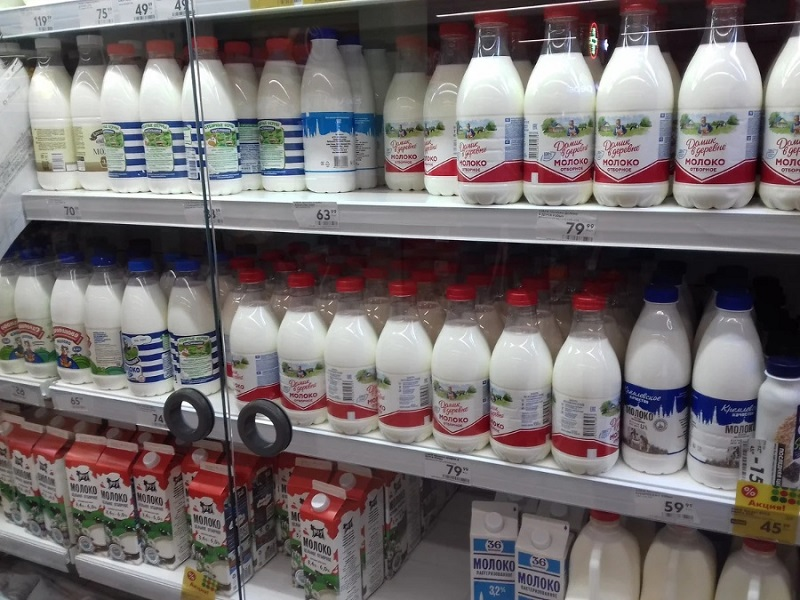milk: (589, 1, 683, 214), (680, 1, 766, 215), (688, 293, 769, 502), (452, 12, 533, 214), (622, 286, 698, 491), (525, 1, 598, 209), (553, 295, 630, 484), (428, 284, 502, 465), (488, 288, 561, 471), (290, 25, 362, 196), (322, 276, 391, 442), (178, 33, 248, 194), (378, 279, 444, 449), (370, 31, 437, 198), (137, 36, 202, 201), (271, 272, 337, 433), (158, 258, 230, 401), (114, 258, 183, 403), (225, 269, 286, 418)
